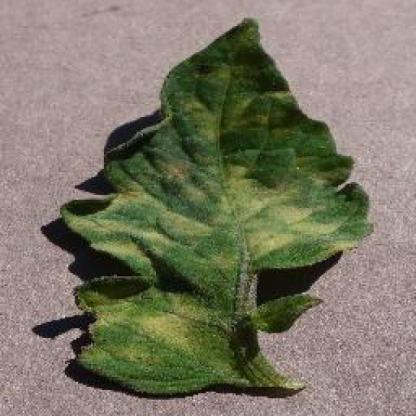Tomato_Leaf_Mold: (62, 19, 374, 396)
